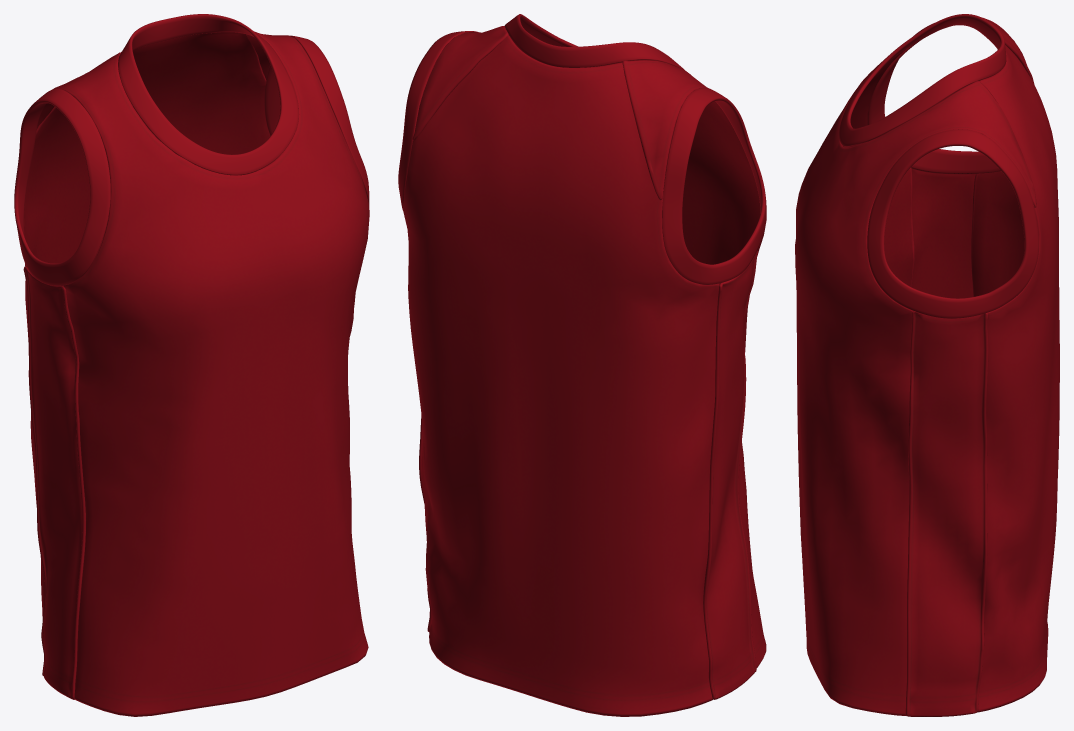
Rendered from Basketball_Jersey.glb.
3 views of the same model, side by side, from view 1: azimuth 30°, elevation 25°; view 2: azimuth 150°, elevation 25°; view 3: azimuth 270°, elevation 25° (orthographic). The views are drawn at different scales.
Visible parts, largest first — view 1: BasketballJersey_Front_low02, BasketballJersey_Back_low02, BasketballJersey_RightInsert_low02, BasketballJersey_CenterCuff_low02, BasketballJersey_RightCuff_low02, BasketballJersey_LeftCuff_low02; view 2: BasketballJersey_Back_low02, BasketballJersey_Front_low02, BasketballJersey_RightInsert_low02, BasketballJersey_RightCuff_low02, BasketballJersey_CenterCuff_low02, BasketballJersey_LeftCuff_low02; view 3: BasketballJersey_Front_low02, BasketballJersey_Back_low02, BasketballJersey_LeftInsert_low02, BasketballJersey_LeftCuff_low02, BasketballJersey_RightInsert_low02, BasketballJersey_CenterCuff_low02, BasketballJersey_RightCuff_low02.
Part boxes in pixels (x1,y1,x2,y2): BasketballJersey_Front_low02: (36, 32, 369, 716); BasketballJersey_Back_low02: (24, 32, 270, 618); BasketballJersey_RightInsert_low02: (23, 266, 85, 699); BasketballJersey_CenterCuff_low02: (118, 14, 298, 175); BasketballJersey_RightCuff_low02: (14, 89, 110, 285); BasketballJersey_LeftCuff_low02: (264, 35, 369, 203); BasketballJersey_Back_low02: (403, 35, 719, 716); BasketballJersey_Front_low02: (412, 26, 766, 667); BasketballJersey_RightInsert_low02: (703, 251, 757, 699); BasketballJersey_RightCuff_low02: (662, 87, 766, 284); BasketballJersey_CenterCuff_low02: (504, 14, 684, 70); BasketballJersey_LeftCuff_low02: (398, 31, 478, 210); BasketballJersey_Front_low02: (795, 19, 1036, 715); BasketballJersey_Back_low02: (970, 45, 1059, 712); BasketballJersey_LeftInsert_low02: (905, 311, 988, 716); BasketballJersey_LeftCuff_low02: (867, 129, 1038, 318); BasketballJersey_RightInsert_low02: (911, 169, 975, 298); BasketballJersey_CenterCuff_low02: (839, 14, 1006, 147); BasketballJersey_RightCuff_low02: (867, 17, 1025, 174).
Size of the model in its own units: 0.5116 by 0.9819 by 0.3823.
1 material, 1 textured.
